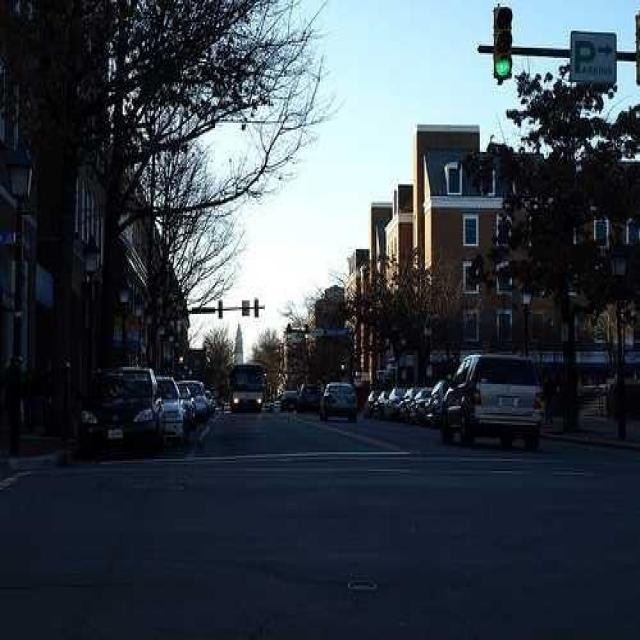Traffic Light -Green-: (489, 3, 515, 84)
